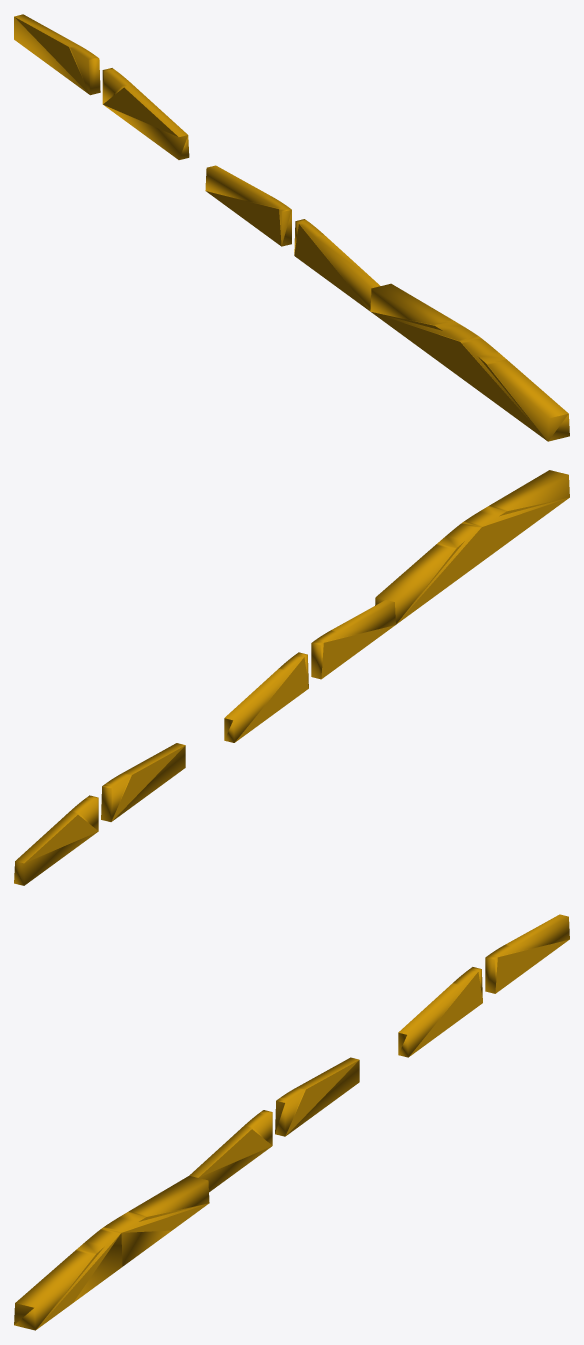
File: convex-parts.fbx
3 renders of one model, top to bottom at view 1: azimuth 30°, elevation 25°; view 2: azimuth 150°, elevation 25°; view 3: azimuth 330°, elevation 25°, orthographic. The views are drawn at different scales.
Visible parts, largest first — view 1: road02A.001, road03A.001, road08RA.001, road06LA.001, road10RA.001, road04LA.001; view 2: road03A.001, road02A.001, road06LA.001, road10RA.001, road04LA.001, road08RA.001; view 3: road02A.001, road03A.001, road08RA.001, road10RA.001, road06LA.001, road04LA.001.
Boxes of the visible parts, left/top/right/bottom form: road02A.001: left=459, top=337, right=569, bottom=441; road03A.001: left=370, top=283, right=479, bottom=376; road08RA.001: left=102, top=68, right=189, bottom=159; road06LA.001: left=205, top=165, right=291, bottom=246; road10RA.001: left=14, top=14, right=100, bottom=95; road04LA.001: left=294, top=219, right=380, bottom=311; road03A.001: left=375, top=522, right=482, bottom=624; road02A.001: left=463, top=470, right=569, bottom=560; road06LA.001: left=224, top=652, right=308, bottom=742; road10RA.001: left=14, top=795, right=98, bottom=885; road04LA.001: left=311, top=600, right=395, bottom=679; road08RA.001: left=101, top=743, right=185, bottom=821; road02A.001: left=14, top=1228, right=122, bottom=1330; road03A.001: left=102, top=1176, right=209, bottom=1266; road08RA.001: left=398, top=967, right=482, bottom=1057; road10RA.001: left=485, top=914, right=569, bottom=993; road06LA.001: left=275, top=1057, right=359, bottom=1136; road04LA.001: left=189, top=1110, right=272, bottom=1192.
Size of the model in its own units: 100 by 150 by 4300.
